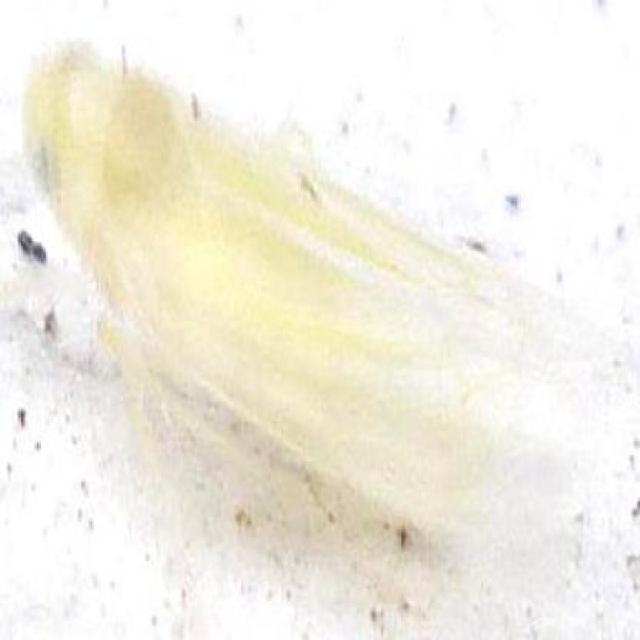green-leafhopper: (25, 35, 542, 552)
